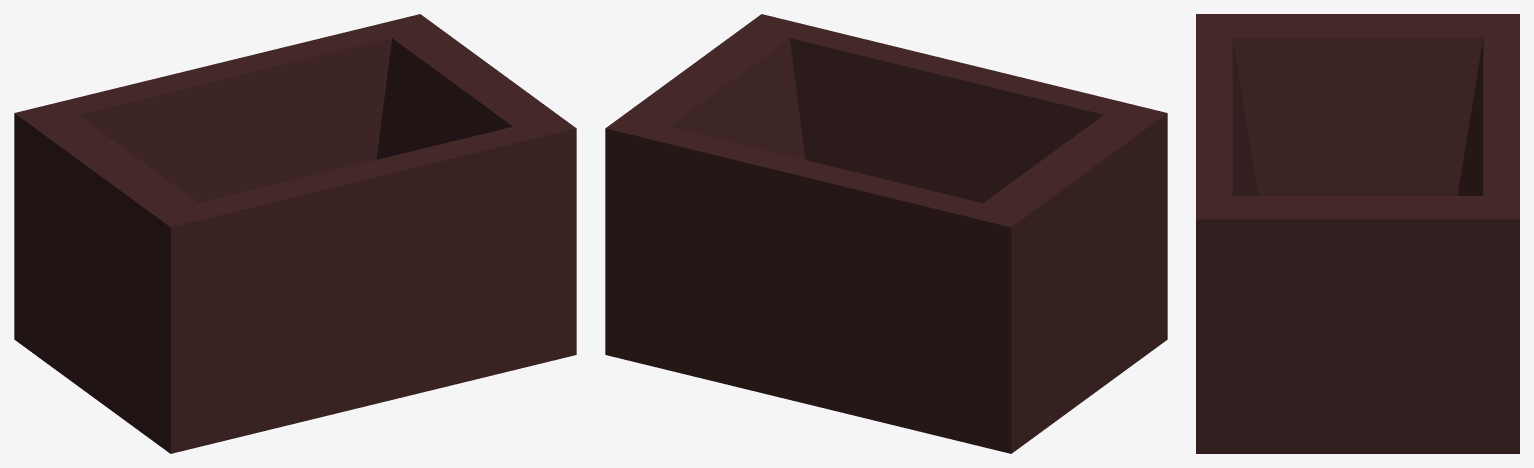
The model's file is chest.fbx.
3 renders of one model, left to right at view 1: azimuth 30°, elevation 25°; view 2: azimuth 150°, elevation 25°; view 3: azimuth 270°, elevation 25°, orthographic. The views are drawn at different scales.
Visible parts, largest first — view 1: Cube; view 2: Cube; view 3: Cube.
Part boxes in pixels (left/top/right/bottom): Cube: left=14, top=14, right=576, bottom=453; Cube: left=605, top=14, right=1167, bottom=453; Cube: left=1196, top=14, right=1519, bottom=453.
Size of the model in its own units: 150 by 80 by 100.
